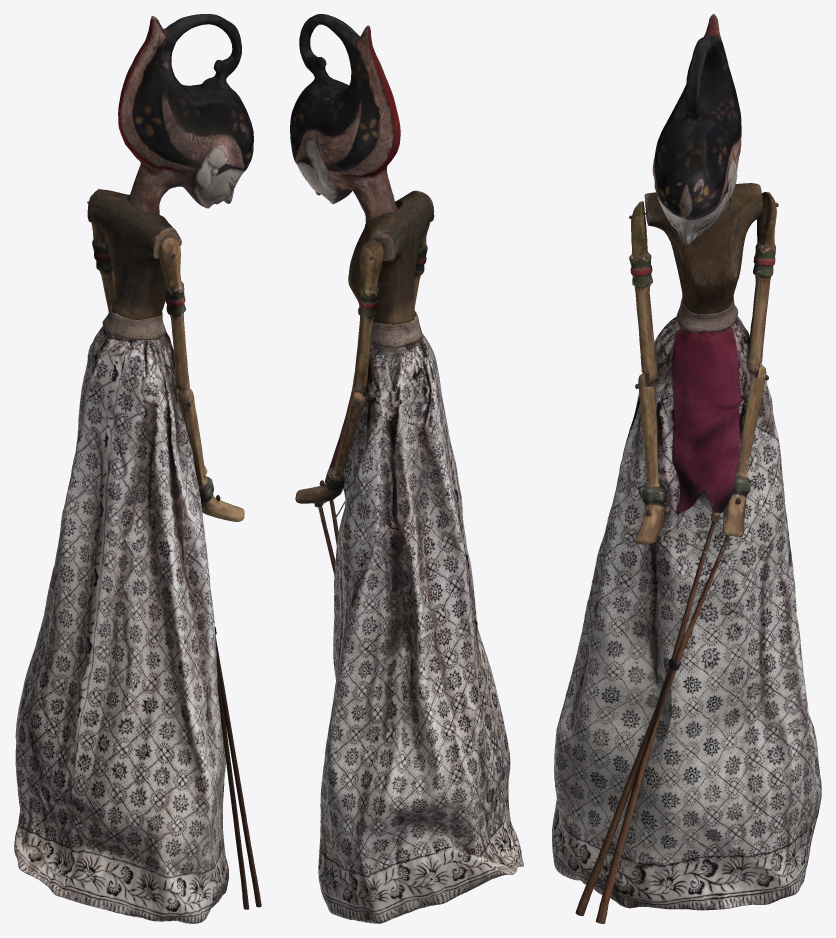
File: wayang.glb
3 views of the same model, side by side, from view 1: azimuth 30°, elevation 25°; view 2: azimuth 150°, elevation 25°; view 3: azimuth 270°, elevation 25° (orthographic). The views are drawn at different scales.
Visible parts, largest first — view 1: 1237_ardjuna; view 2: 1237_ardjuna; view 3: 1237_ardjuna.
Part boxes in pixels (bbox=[...]): 1237_ardjuna: bbox=[14, 14, 261, 923]; 1237_ardjuna: bbox=[290, 14, 523, 923]; 1237_ardjuna: bbox=[552, 14, 821, 923].
Size of the model in its own units: 20.62 by 76 by 20.88.
Materials: 3 (3 with a texture image).
